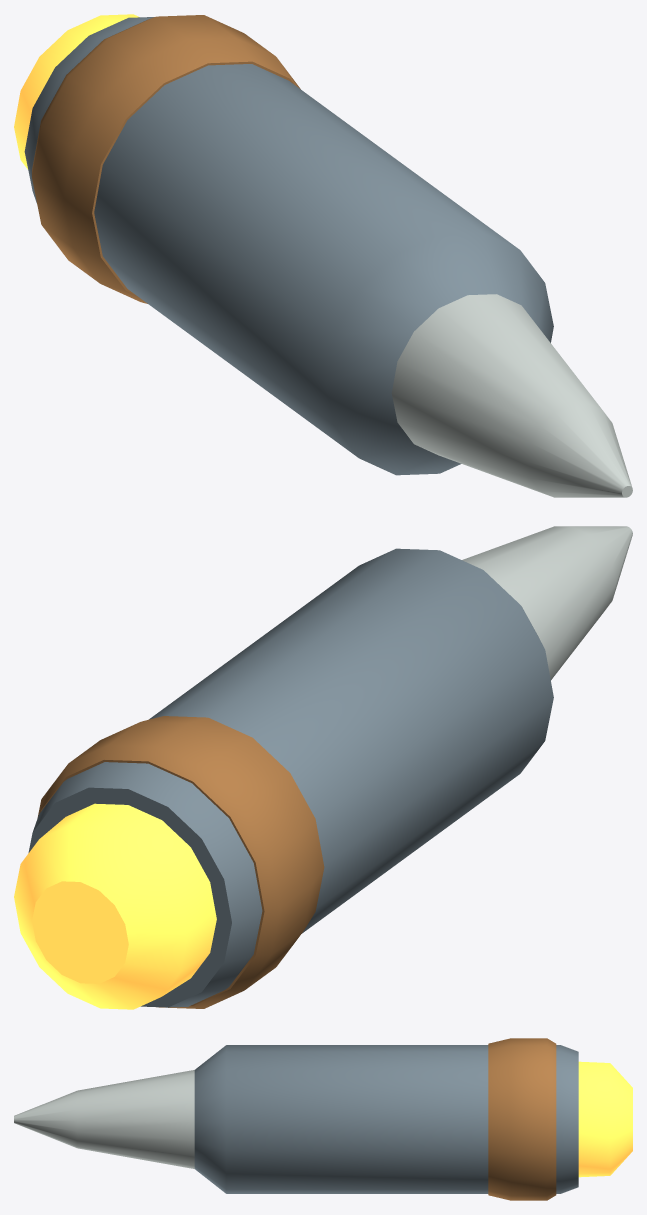
The model's file is twin.glb.
The picture shows the model from 3 angles, top to bottom: view 1: azimuth 30°, elevation 25°; view 2: azimuth 150°, elevation 25°; view 3: azimuth 270°, elevation 25°; orthographic projection. The views are drawn at different scales.
Parts seen in each view (by area): view 1: twin / Machined titanium, twin / Ivory ceramic, twin / Copper driving band, twin / Tracer ember; view 2: twin / Machined titanium, twin / Tracer ember, twin / Copper driving band, twin / Ivory ceramic; view 3: twin / Machined titanium, twin / Ivory ceramic, twin / Copper driving band, twin / Tracer ember.
Part boxes in pixels (x1,y1,x2,y2): twin / Machined titanium: [24, 17, 553, 475]; twin / Ivory ceramic: [391, 294, 632, 497]; twin / Copper driving band: [32, 15, 300, 303]; twin / Tracer ember: [14, 14, 139, 169]; twin / Machined titanium: [28, 548, 553, 1007]; twin / Tracer ember: [14, 803, 216, 1009]; twin / Copper driving band: [37, 716, 324, 1008]; twin / Ivory ceramic: [462, 526, 632, 680]; twin / Machined titanium: [194, 1045, 578, 1193]; twin / Ivory ceramic: [14, 1070, 194, 1168]; twin / Copper driving band: [488, 1038, 556, 1200]; twin / Tracer ember: [578, 1061, 632, 1177].
Bounding box in the file's own units: 3.6 × 3.6 × 13.7.
